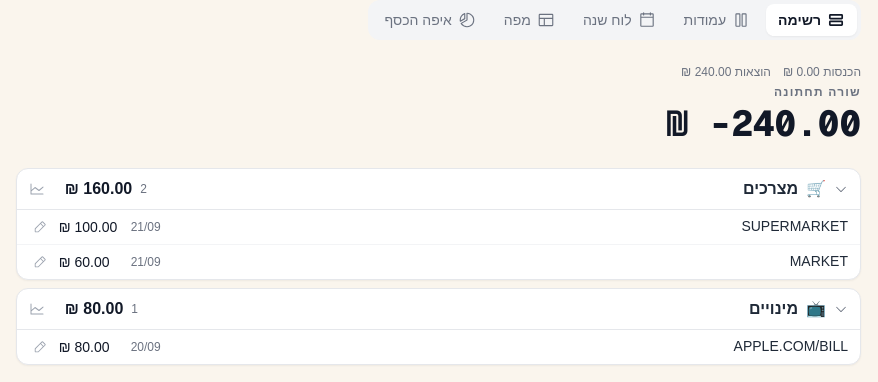
Test case: ExpensesExplorer category order › hiding a row does not reshuffle the categories
# groceries drops from 160 to 60, below subscriptions' 80.
Click the text "SUPERMARKET": (795, 226) [741, 218, 848, 234]
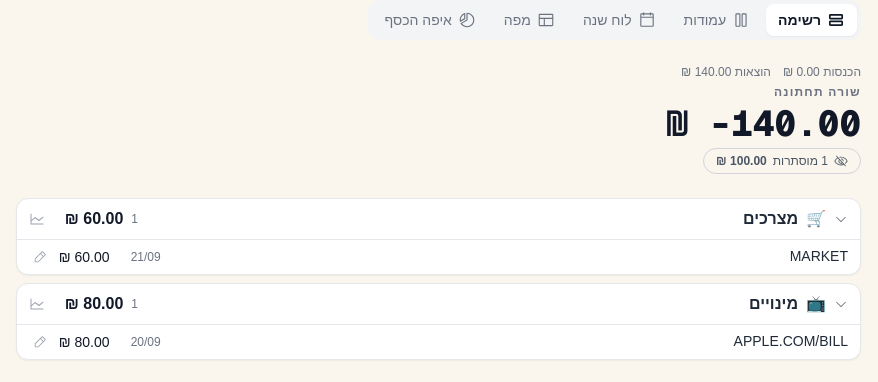
Now the text "SUPERMARKET" is gone
